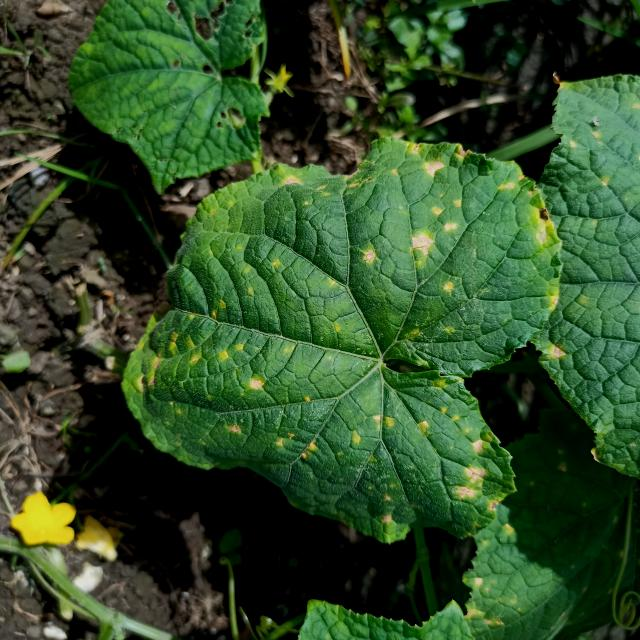disease_cucumber: (137, 141, 557, 527), (568, 127, 613, 190)
